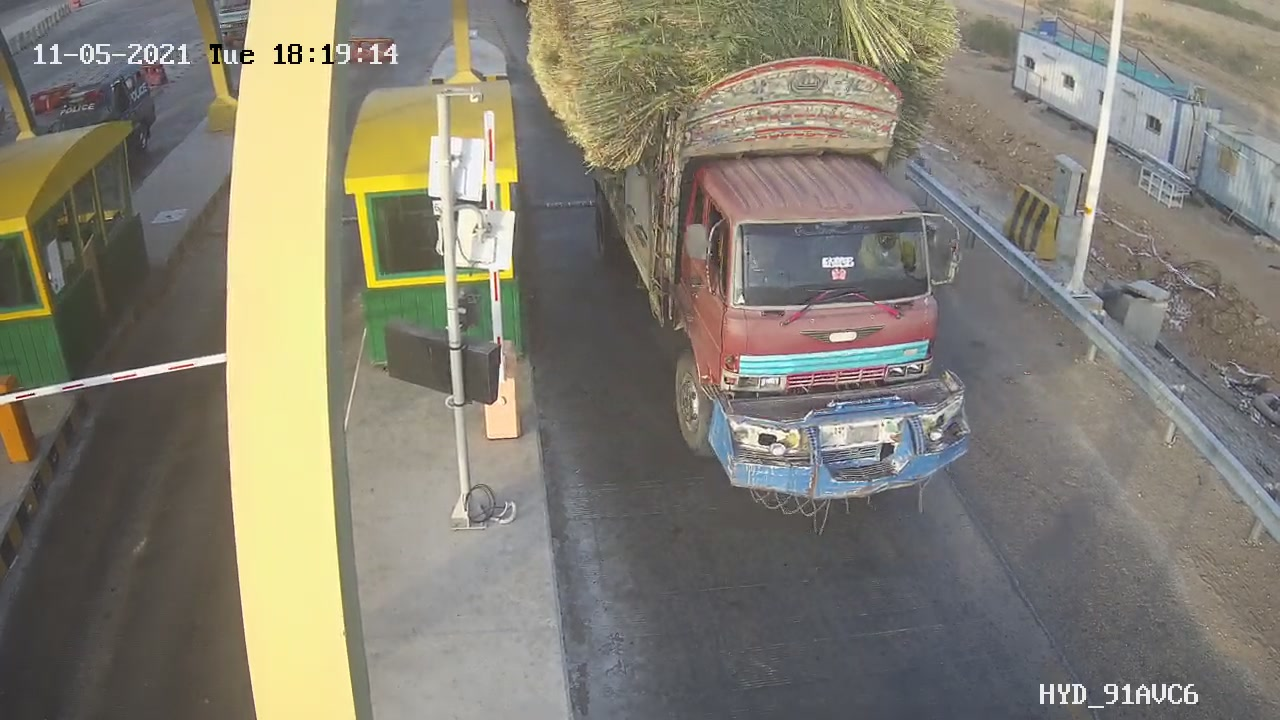F5: (532, 1, 1024, 510)
